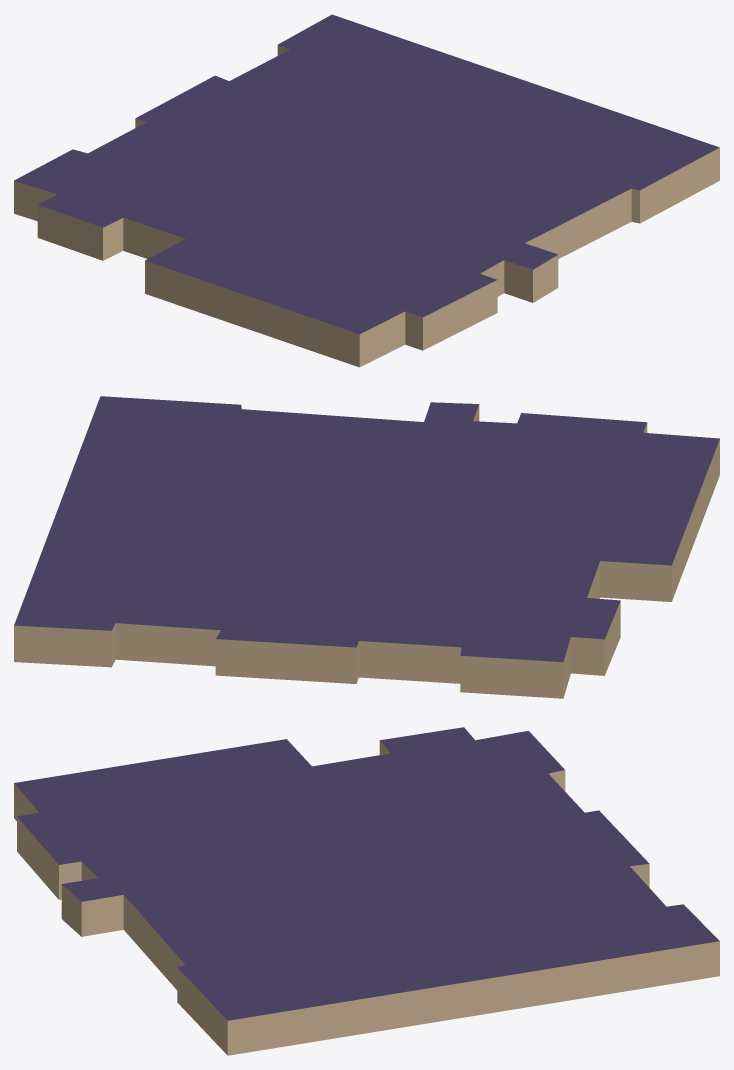
The model's file is b-088-health-sciences-addition.glb.
The picture shows the model from 3 angles, top to bottom: view 1: azimuth 30°, elevation 25°; view 2: azimuth 150°, elevation 25°; view 3: azimuth 270°, elevation 25°; orthographic projection. The views are drawn at different scales.
Parts seen in each view (by area): view 1: campus/b-088-health-sciences-addition-0; view 2: campus/b-088-health-sciences-addition-0; view 3: campus/b-088-health-sciences-addition-0.
Part boxes in pixels (x1,y1,x2,y2): campus/b-088-health-sciences-addition-0: (14,14,719,367); campus/b-088-health-sciences-addition-0: (14,396,719,698); campus/b-088-health-sciences-addition-0: (14,727,719,1055).
Size of the model in its own units: 53.93 by 3 by 54.8.
